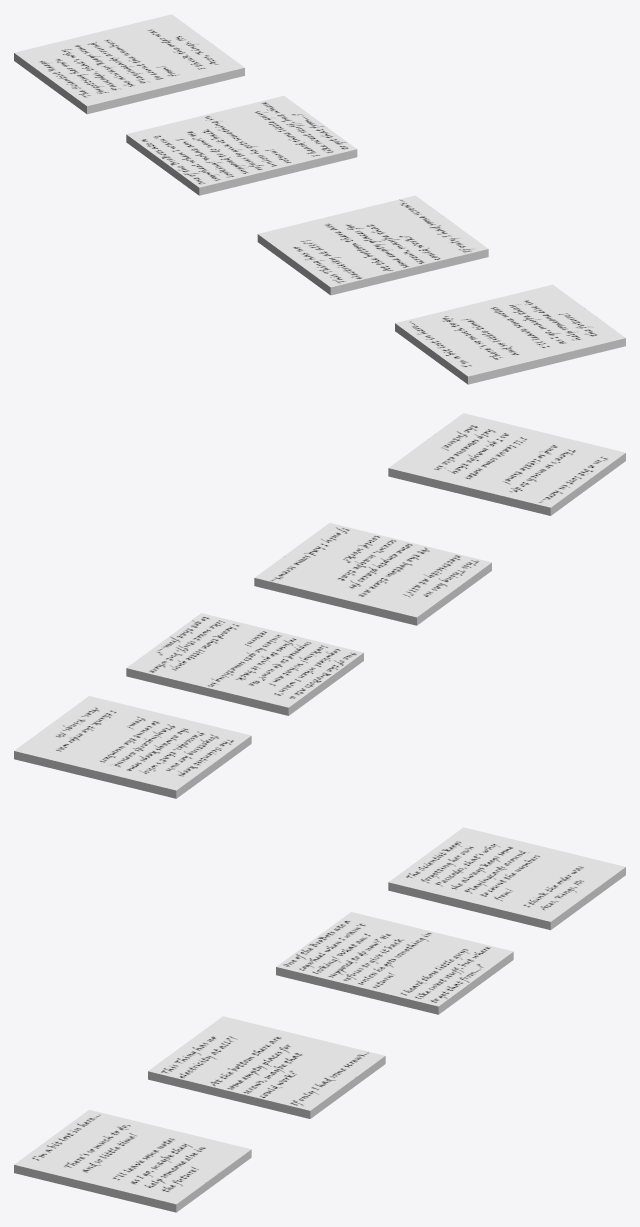
File: Pages.fbx
3 views of the same model, one above another, from view 1: azimuth 30°, elevation 25°; view 2: azimuth 150°, elevation 25°; view 3: azimuth 330°, elevation 25° (orthographic). The views are drawn at different scales.
Parts seen in each view (by area): view 1: KathiPuzzle, BroBots, ChestInfo, EntryText; view 2: BroBots, ChestInfo, EntryText, KathiPuzzle; view 3: BroBots, ChestInfo, EntryText, KathiPuzzle.
Boxes of the visible parts, bbox=[...] form: KathiPuzzle: bbox=[257, 195, 488, 295]; BroBots: bbox=[126, 96, 357, 195]; ChestInfo: bbox=[14, 14, 244, 114]; EntryText: bbox=[395, 284, 625, 384]; BroBots: bbox=[126, 613, 363, 715]; ChestInfo: bbox=[14, 696, 251, 798]; EntryText: bbox=[388, 413, 625, 515]; KathiPuzzle: bbox=[254, 523, 491, 625]; BroBots: bbox=[276, 912, 513, 1014]; ChestInfo: bbox=[388, 827, 625, 930]; EntryText: bbox=[14, 1109, 251, 1212]; KathiPuzzle: bbox=[148, 1016, 385, 1118].
Bounding box in the file's own units: 195 × 17.84 × 904.
Materials: 5 (4 with a texture image).
